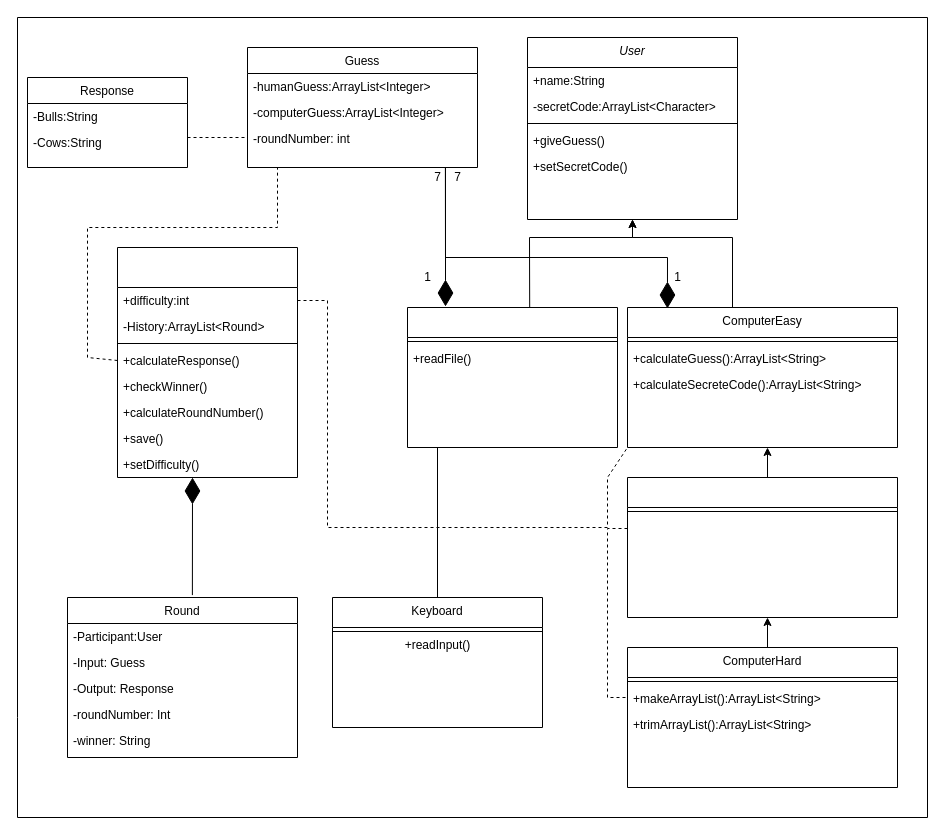
This 946x836 diagram has some shape labels left out. The box of each missing label's shape, as (x1, y1, x2, y2) in pixels:
ComputerMedium: (626, 476, 898, 618)
GameEngine: (116, 246, 298, 478)
Human: (406, 306, 618, 448)
